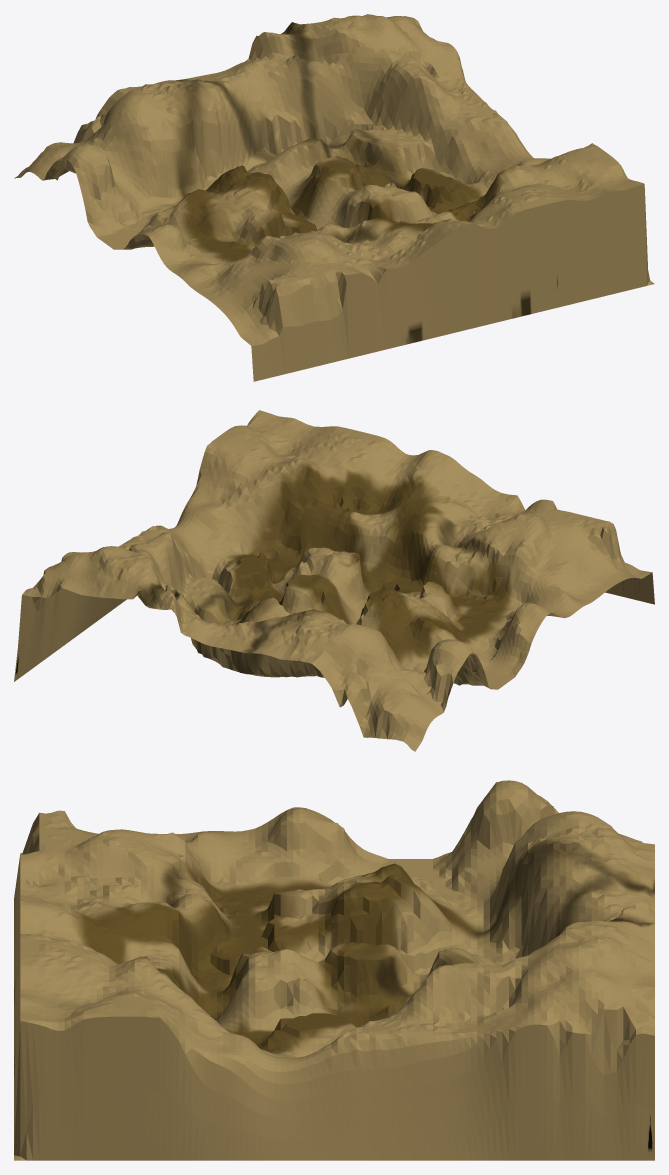
Rendered from TO13_Terrain.fbx.
3 renders of one model, top to bottom at view 1: azimuth 30°, elevation 25°; view 2: azimuth 150°, elevation 25°; view 3: azimuth 270°, elevation 25°, orthographic. The views are drawn at different scales.
Parts seen in each view (by area): view 1: T13.HideSide, T13.MiddleHighVelly, T13.EndHighVelly, T13.DryMountain2, T13.EntranceHighVelly3, T13.SideBearsSole2, T13.EntranceHighVelly1, T13.SideBearsSole1, T13.DesertMountain2, T13.BearsSole3, T13.DesertMountain4, T13.DesertMountain3 (+9 smaller); view 2: T13.SideBearsSole2, T13.SideBearsSole1, T13.EntranceHighVelly3, T13.DesertMountain1, T13.DryMountain1, T13.EndHighVelly, T13.EntranceHighVelly1, T13.DryMountain2, T13.HideSide, T13.EntranceHighVelly2, T13.BearsSole3, T13.MiddleHighVelly (+7 smaller); view 3: T13.HideSide, T13.SideBearsSole1, T13.SideBearsSole2, T13.DesertMountain1, T13.DesertMountain3, T13.MiddleHighVelly, T13.DryMountain2, T13.DeathCanyon2, T13.EntranceHighVelly1, T13.EntranceHighVelly2, T13.DeathCanyon1, T13.MiddleMountain3 (+10 smaller).
Part boxes in pixels (left/top/right/bottom): T13.HideSide: left=251, top=56, right=654, bottom=381; T13.MiddleHighVelly: left=168, top=63, right=349, bottom=190; T13.EndHighVelly: left=332, top=71, right=491, bottom=212; T13.DryMountain2: left=38, top=86, right=197, bottom=208; T13.EntranceHighVelly3: left=211, top=235, right=346, bottom=345; T13.SideBearsSole2: left=432, top=143, right=643, bottom=228; T13.EntranceHighVelly1: left=83, top=168, right=245, bottom=249; T13.SideBearsSole1: left=288, top=215, right=488, bottom=283; T13.DesertMountain2: left=255, top=16, right=441, bottom=96; T13.BearsSole3: left=278, top=154, right=416, bottom=229; T13.DesertMountain4: left=442, top=97, right=533, bottom=183; T13.DesertMountain3: left=361, top=16, right=483, bottom=101; T13.SideBearsSole2: left=180, top=410, right=413, bottom=570; T13.SideBearsSole1: left=351, top=450, right=555, bottom=596; T13.EntranceHighVelly3: left=484, top=505, right=651, bottom=596; T13.DesertMountain1: left=20, top=554, right=324, bottom=650; T13.DryMountain1: left=233, top=635, right=438, bottom=751; T13.EndHighVelly: left=158, top=533, right=287, bottom=623; T13.EntranceHighVelly1: left=380, top=601, right=528, bottom=689; T13.DryMountain2: left=318, top=613, right=483, bottom=715; T13.HideSide: left=14, top=512, right=654, bottom=681; T13.EntranceHighVelly2: left=453, top=564, right=611, bottom=641; T13.BearsSole3: left=241, top=547, right=373, bottom=624; T13.MiddleHighVelly: left=186, top=597, right=329, bottom=677; T13.HideSide: left=14, top=854, right=654, bottom=1160; T13.SideBearsSole1: left=20, top=838, right=238, bottom=1015; T13.SideBearsSole2: left=20, top=930, right=261, bottom=1073; T13.DesertMountain1: left=566, top=829, right=654, bottom=1107; T13.DesertMountain3: left=413, top=943, right=603, bottom=1045; T13.MiddleHighVelly: left=426, top=836, right=610, bottom=977; T13.DryMountain2: left=471, top=780, right=616, bottom=927; T13.DeathCanyon2: left=248, top=957, right=408, bottom=1034; T13.EntranceHighVelly1: left=329, top=820, right=502, bottom=953; T13.EntranceHighVelly2: left=148, top=825, right=332, bottom=908; T13.DeathCanyon1: left=268, top=889, right=445, bottom=975; T13.MiddleMountain3: left=248, top=807, right=350, bottom=885.
Size of the model in its own units: 31357 by 9551 by 32440.
